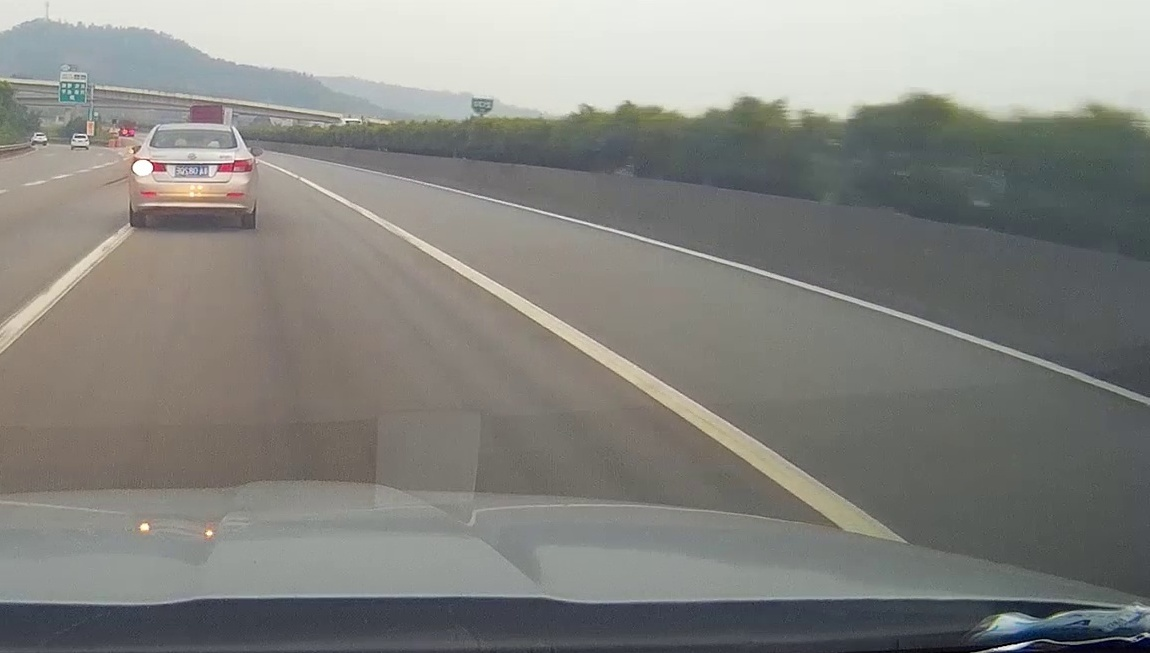L_light: (132, 157, 166, 172)
R_light: (217, 157, 253, 173)
T_light: (187, 130, 204, 134)
day-left: (129, 124, 256, 229)
